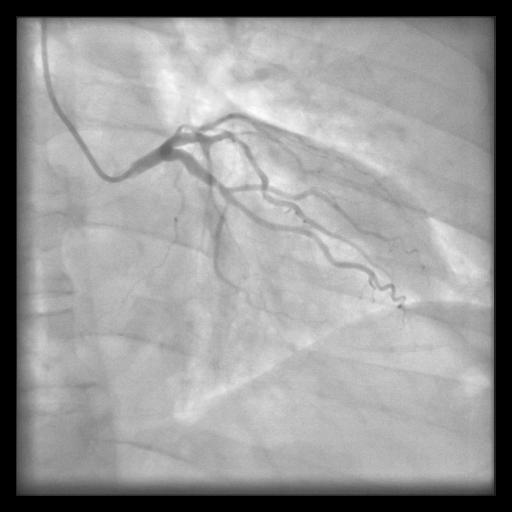Stenosis: (213, 176, 220, 190)
